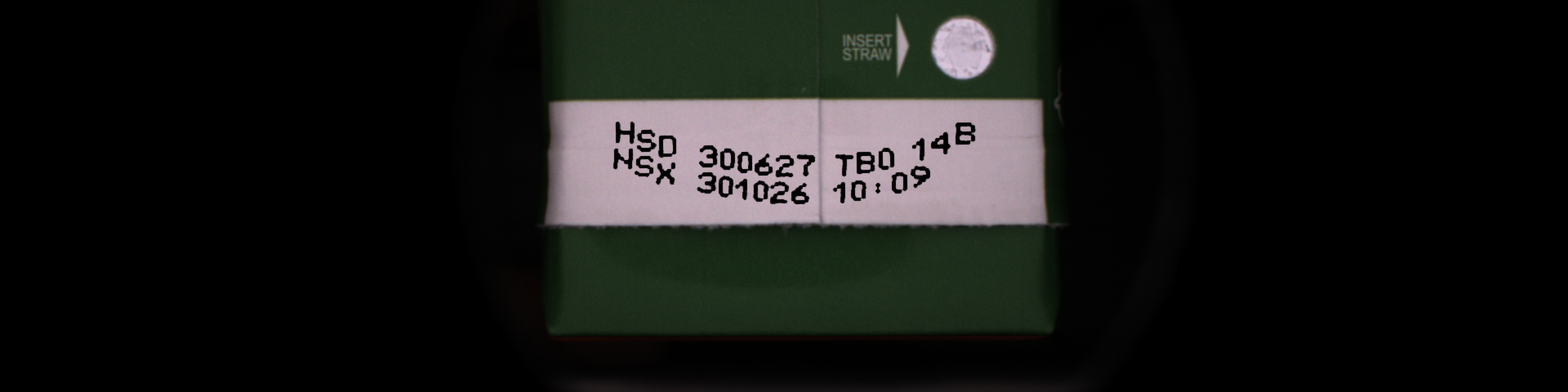date: (952, 120, 978, 149), (928, 128, 953, 157), (655, 159, 679, 188), (794, 152, 819, 179), (635, 126, 658, 155), (832, 150, 855, 179), (790, 178, 813, 207), (612, 118, 635, 146), (773, 151, 796, 179), (909, 163, 932, 191), (610, 145, 634, 171), (855, 149, 877, 177), (696, 170, 718, 198), (768, 178, 790, 206), (753, 151, 774, 179), (697, 142, 718, 169), (876, 145, 897, 171), (633, 153, 654, 179), (657, 132, 677, 159), (890, 169, 909, 197), (718, 146, 736, 174), (910, 136, 928, 164), (717, 172, 735, 200), (751, 177, 769, 205), (849, 177, 868, 203), (736, 149, 753, 176), (735, 176, 751, 203), (832, 180, 848, 207), (871, 176, 886, 199)
